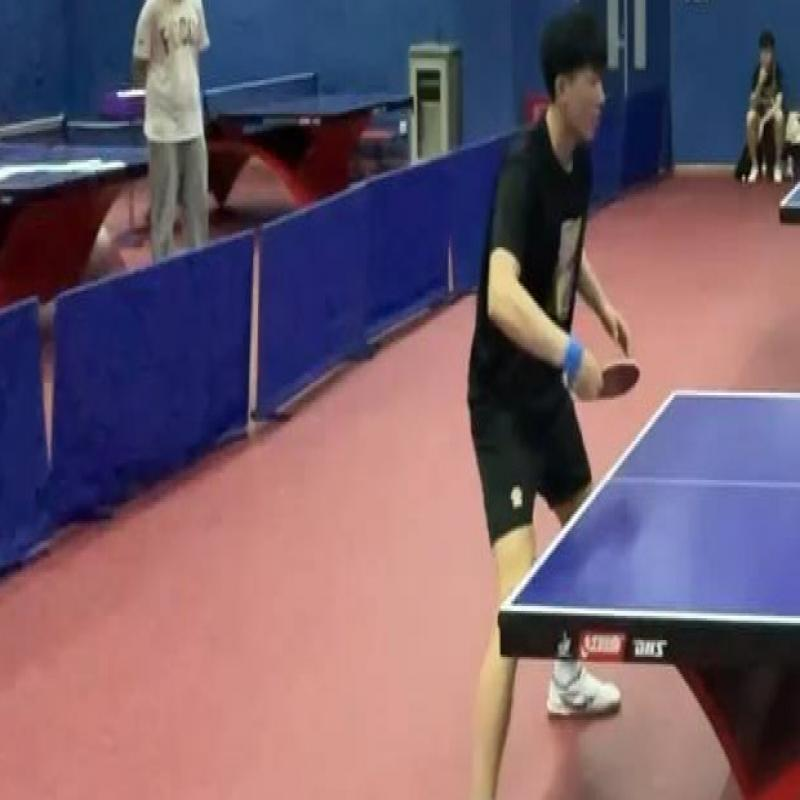bats: (578, 339, 648, 417)
